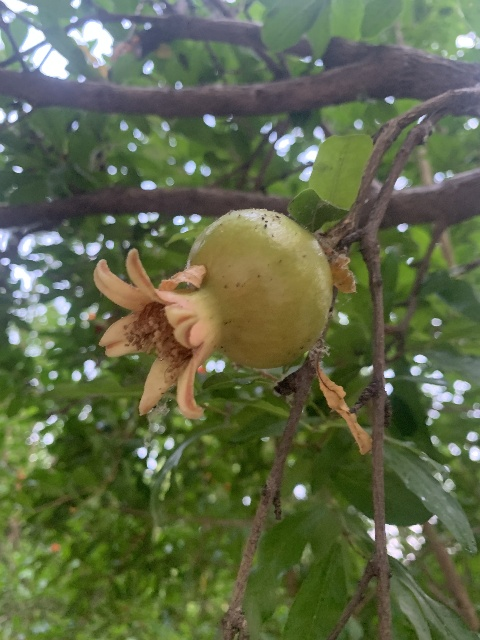mid-growth: (96, 207, 334, 420)
